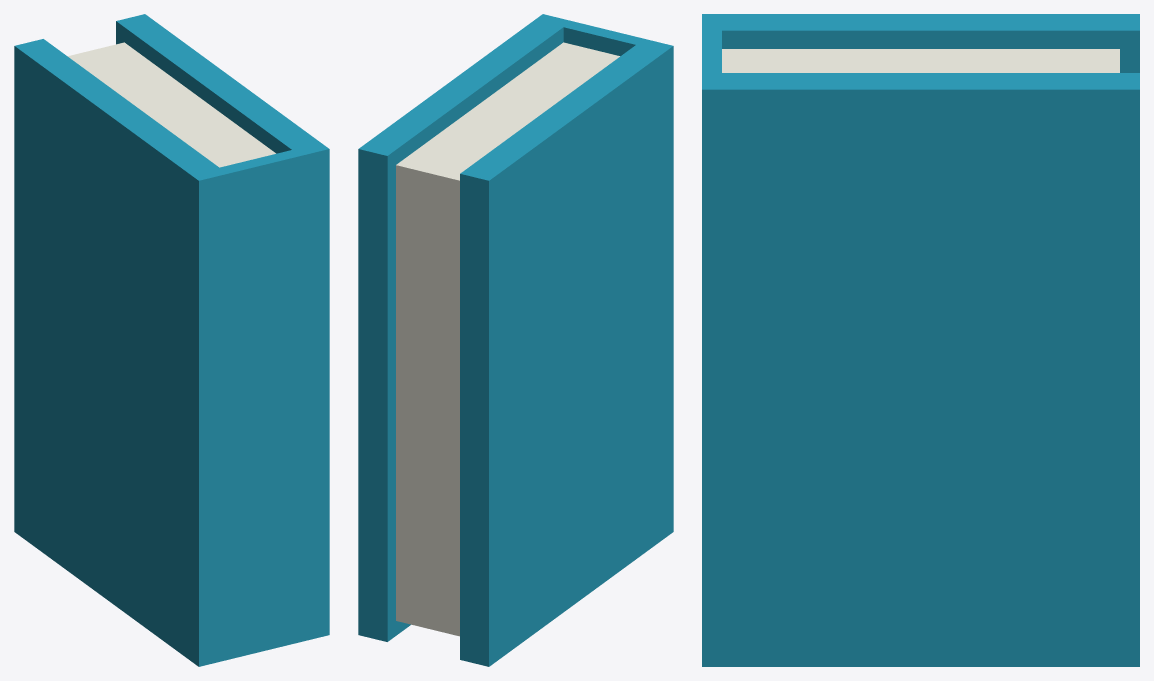
File: Book_Blue_Normal.fbx
3 renders of one model, left to right at view 1: azimuth 30°, elevation 25°; view 2: azimuth 150°, elevation 25°; view 3: azimuth 270°, elevation 25°, orthographic. The views are drawn at different scales.
Parts seen in each view (by area): view 1: pCube8; view 2: pCube8; view 3: pCube8.
Boxes of the visible parts, x1,y1,x2,y2 form: pCube8: [14, 14, 329, 666]; pCube8: [358, 14, 673, 666]; pCube8: [702, 14, 1139, 666].
Size of the model in its own units: 9 by 32 by 22.
